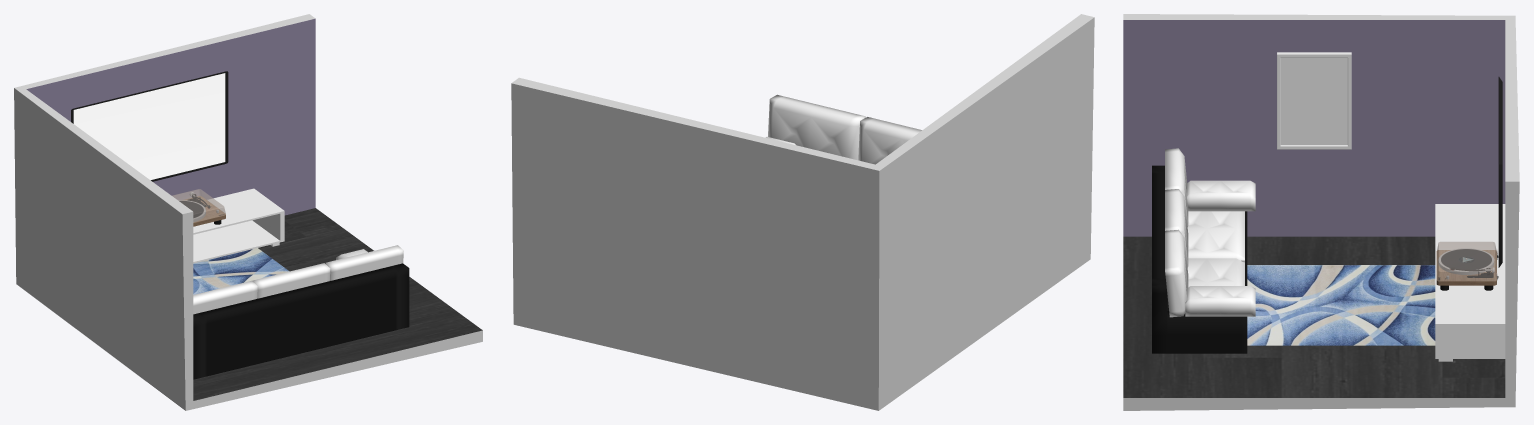
File: Cenario.gltf
The picture shows the model from 3 angles, left to right: view 1: azimuth 30°, elevation 25°; view 2: azimuth 150°, elevation 25°; view 3: azimuth 270°, elevation 25°; orthographic projection. The views are drawn at different scales.
Visible parts, largest first — view 1: walls, sofa, tv, table, Plane.009, Plane.006, Plane.005, Plane.004, DustCover; view 2: walls, Plane.006, Plane.005; view 3: walls, Plane.009, table, Plane.001, sofa, Plane.002, DustCover, Plane.007, Plane.008, Plane.006, Plane.003, Plane.005 (+5 smaller).
Boxes of the visible parts, bbox=[...] form: walls: bbox=[14, 14, 482, 410]; sofa: bbox=[193, 263, 409, 379]; tv: bbox=[71, 71, 228, 181]; table: bbox=[193, 188, 284, 263]; Plane.009: bbox=[193, 248, 289, 294]; Plane.006: bbox=[325, 245, 403, 280]; Plane.005: bbox=[252, 263, 330, 298]; Plane.004: bbox=[193, 280, 257, 314]; DustCover: bbox=[172, 189, 225, 222]; walls: bbox=[511, 14, 1094, 410]; Plane.006: bbox=[768, 94, 865, 160]; Plane.005: bbox=[858, 117, 921, 164]; walls: bbox=[1123, 14, 1519, 410]; Plane.009: bbox=[1247, 265, 1435, 345]; table: bbox=[1435, 204, 1505, 358]; Plane.001: bbox=[1277, 52, 1351, 149]; sofa: bbox=[1152, 165, 1247, 353]; Plane.002: bbox=[1187, 211, 1244, 260]; DustCover: bbox=[1437, 242, 1497, 280]; Plane.007: bbox=[1186, 180, 1255, 211]; Plane.008: bbox=[1185, 286, 1255, 316]; Plane.006: bbox=[1165, 229, 1188, 317]; Plane.003: bbox=[1187, 258, 1244, 287]; Plane.005: bbox=[1165, 189, 1188, 266].
Size of the model in its own units: 8.3 by 5.3 by 8.3.
Materials: 28 (10 with a texture image).
